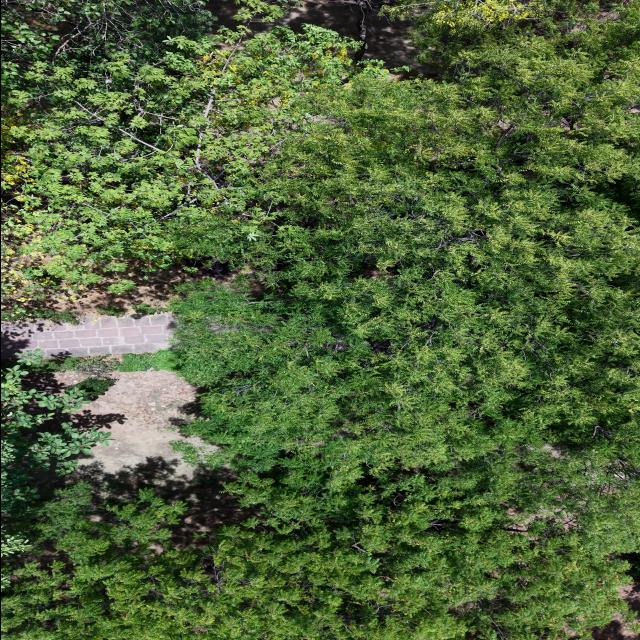DRY_AREA: (65, 370, 253, 544), (68, 370, 251, 544), (73, 370, 249, 542), (1, 262, 227, 357), (1, 260, 201, 358), (65, 456, 254, 545), (247, 0, 434, 73), (74, 370, 195, 479), (76, 371, 195, 478), (77, 371, 195, 478), (273, 1, 432, 72), (54, 258, 208, 316), (593, 612, 639, 639), (593, 613, 639, 639)
PATHWAYS: (1, 313, 173, 357)
VEGETATION_TREE: (1, 0, 639, 639), (173, 2, 639, 637), (175, 2, 638, 481), (1, 0, 352, 318), (1, 472, 630, 639), (1, 0, 216, 317), (1, 351, 112, 582)
